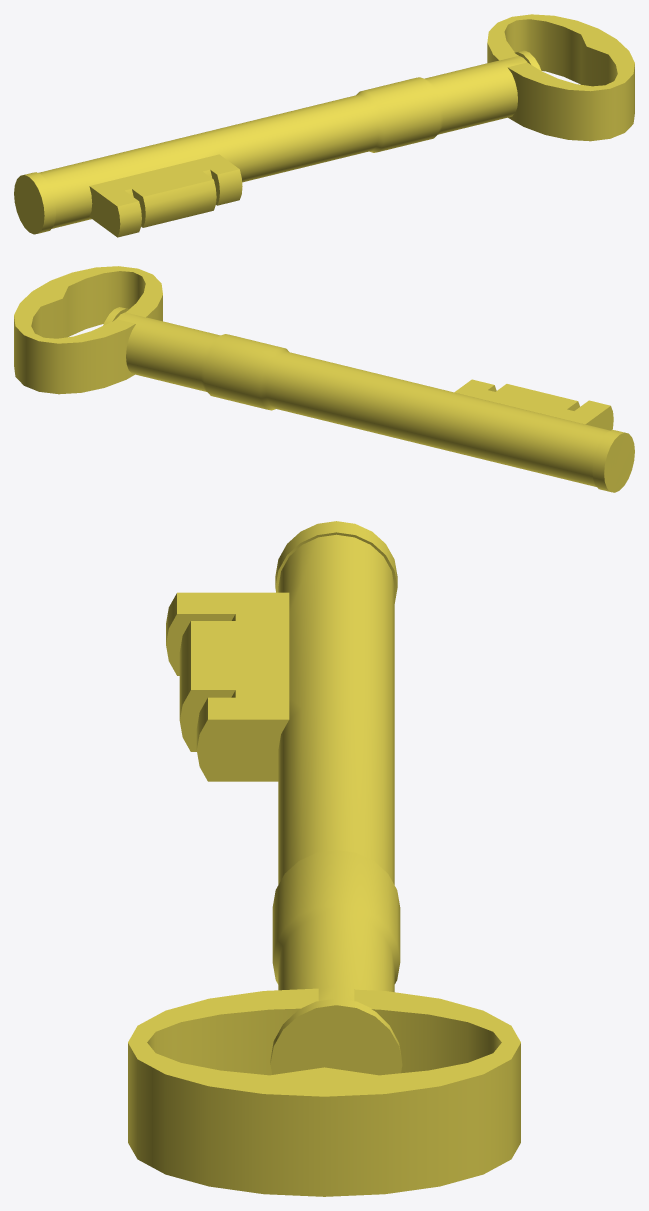
The model's file is Key.fbx.
3 renders of one model, top to bottom at view 1: azimuth 30°, elevation 25°; view 2: azimuth 150°, elevation 25°; view 3: azimuth 270°, elevation 25°, orthographic. The views are drawn at different scales.
Parts seen in each view (by area): view 1: polySurface51; view 2: polySurface51; view 3: polySurface51.
Part boxes in pixels (x1,y1,x2,y2): polySurface51: (14,14,634,237); polySurface51: (14,266,634,492); polySurface51: (128,521,520,1196).
Bounding box in the file's own units: 6.44 × 0.6305 × 1.88.
